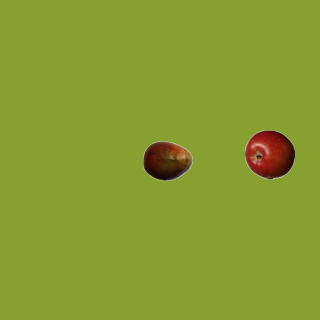Apple Braeburn: (244, 129, 294, 179)
Mango Red: (142, 135, 192, 185)
